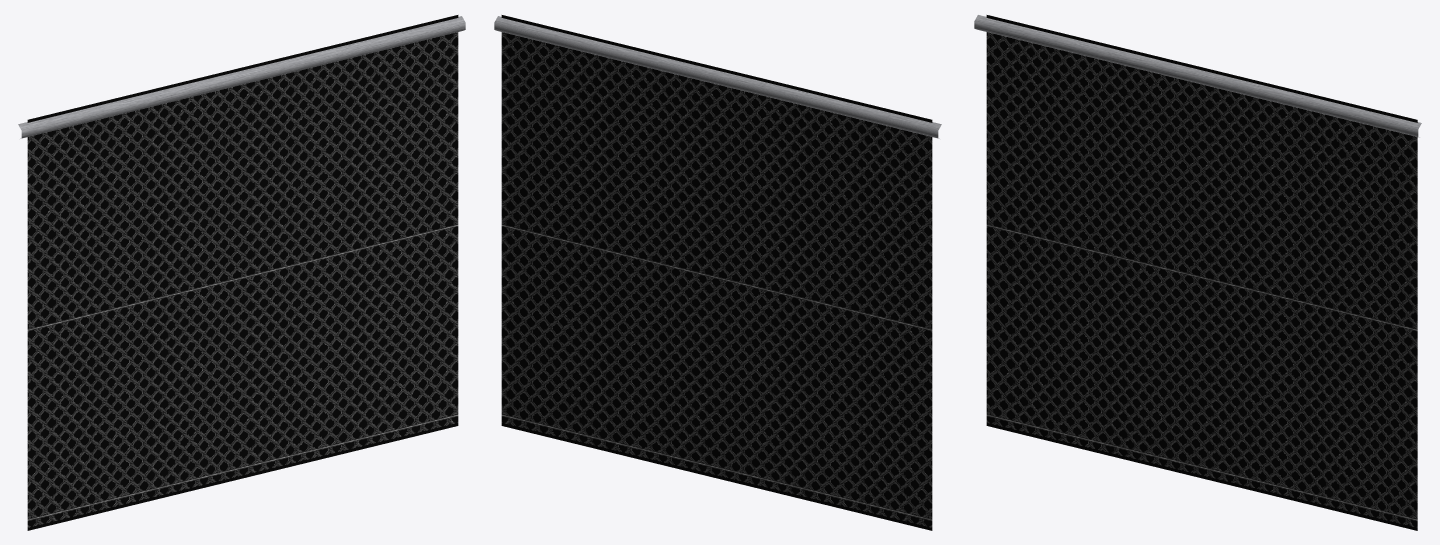
The model's file is fence-tall-chainlink-1rail-noPost-2m-cbj_LOD01.gltf.
The picture shows the model from 3 angles, left to right: view 1: azimuth 30°, elevation 25°; view 2: azimuth 150°, elevation 25°; view 3: azimuth 330°, elevation 25°; orthographic projection.
Parts seen in each view (by area): view 1: cube01; view 2: cube01; view 3: cube01.
Part boxes in pixels (x1,y1,x2,y2): cube01: [18, 15, 465, 530]; cube01: [494, 15, 941, 530]; cube01: [974, 15, 1421, 530].
Bounding box in the file's own units: 2.09 × 1.85 × 0.0591.
